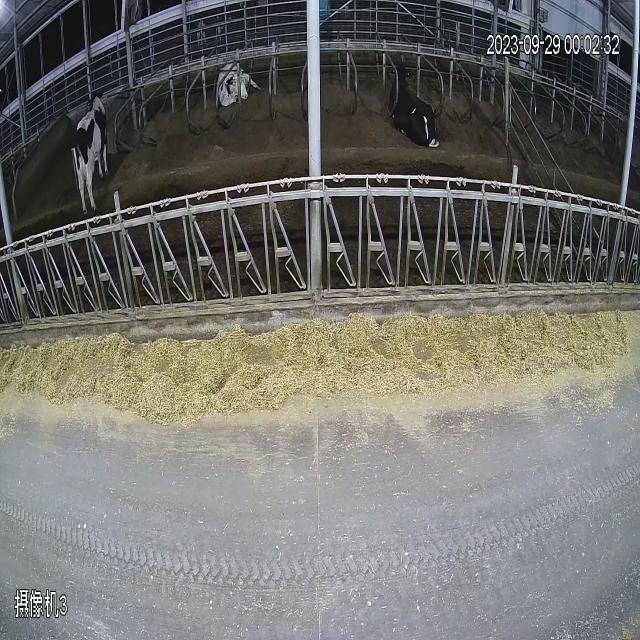lying down: (200, 23, 460, 184)
